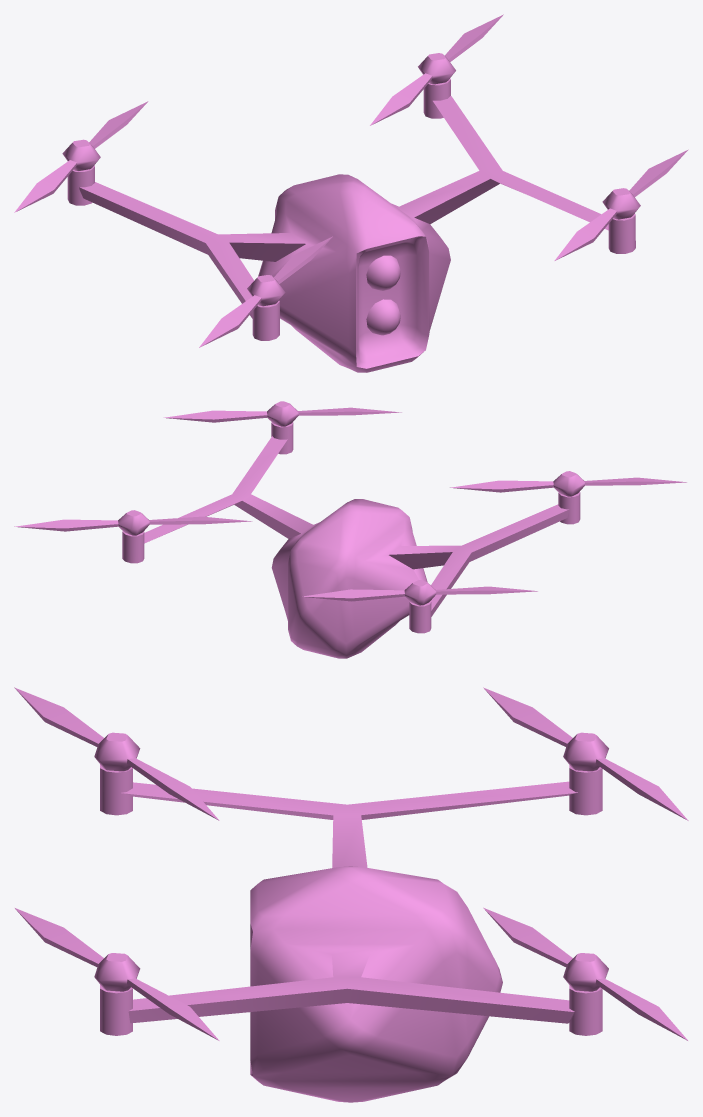
Rendered from prop_enemy_drone.FBX.
The picture shows the model from 3 angles, top to bottom: view 1: azimuth 30°, elevation 25°; view 2: azimuth 150°, elevation 25°; view 3: azimuth 270°, elevation 25°; orthographic projection. The views are drawn at different scales.
Visible parts, largest first — view 1: prop_enemy_drone, prop_enemy_drone_elix2, prop_enemy_drone_elix3, prop_enemy_drone_elix4; view 2: prop_enemy_drone, prop_enemy_drone_elix4, prop_enemy_drone_elix3, prop_enemy_drone_elix2; view 3: prop_enemy_drone, prop_enemy_drone_elix3, prop_enemy_drone_elix2, prop_enemy_drone_elix4.
Boxes of the visible parts, left/top/right/bottom form: prop_enemy_drone: left=67, top=14, right=635, bottom=372; prop_enemy_drone_elix2: left=554, top=149, right=688, bottom=260; prop_enemy_drone_elix3: left=14, top=101, right=148, bottom=212; prop_enemy_drone_elix4: left=199, top=236, right=332, bottom=347; prop_enemy_drone: left=14, top=422, right=580, bottom=658; prop_enemy_drone_elix4: left=450, top=471, right=686, bottom=496; prop_enemy_drone_elix3: left=302, top=580, right=537, bottom=605; prop_enemy_drone_elix2: left=163, top=401, right=401, bottom=426; prop_enemy_drone: left=100, top=764, right=687, bottom=1102; prop_enemy_drone_elix3: left=483, top=687, right=688, bottom=820; prop_enemy_drone_elix2: left=15, top=908, right=219, bottom=1040; prop_enemy_drone_elix4: left=14, top=687, right=219, bottom=820.
Size of the model in its own units: 1.23 by 0.4087 by 0.9869.
